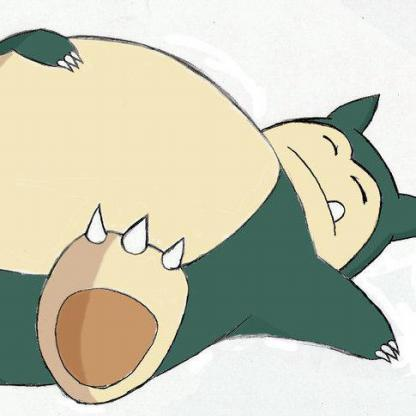Snorlax: (13, 1, 416, 416)
